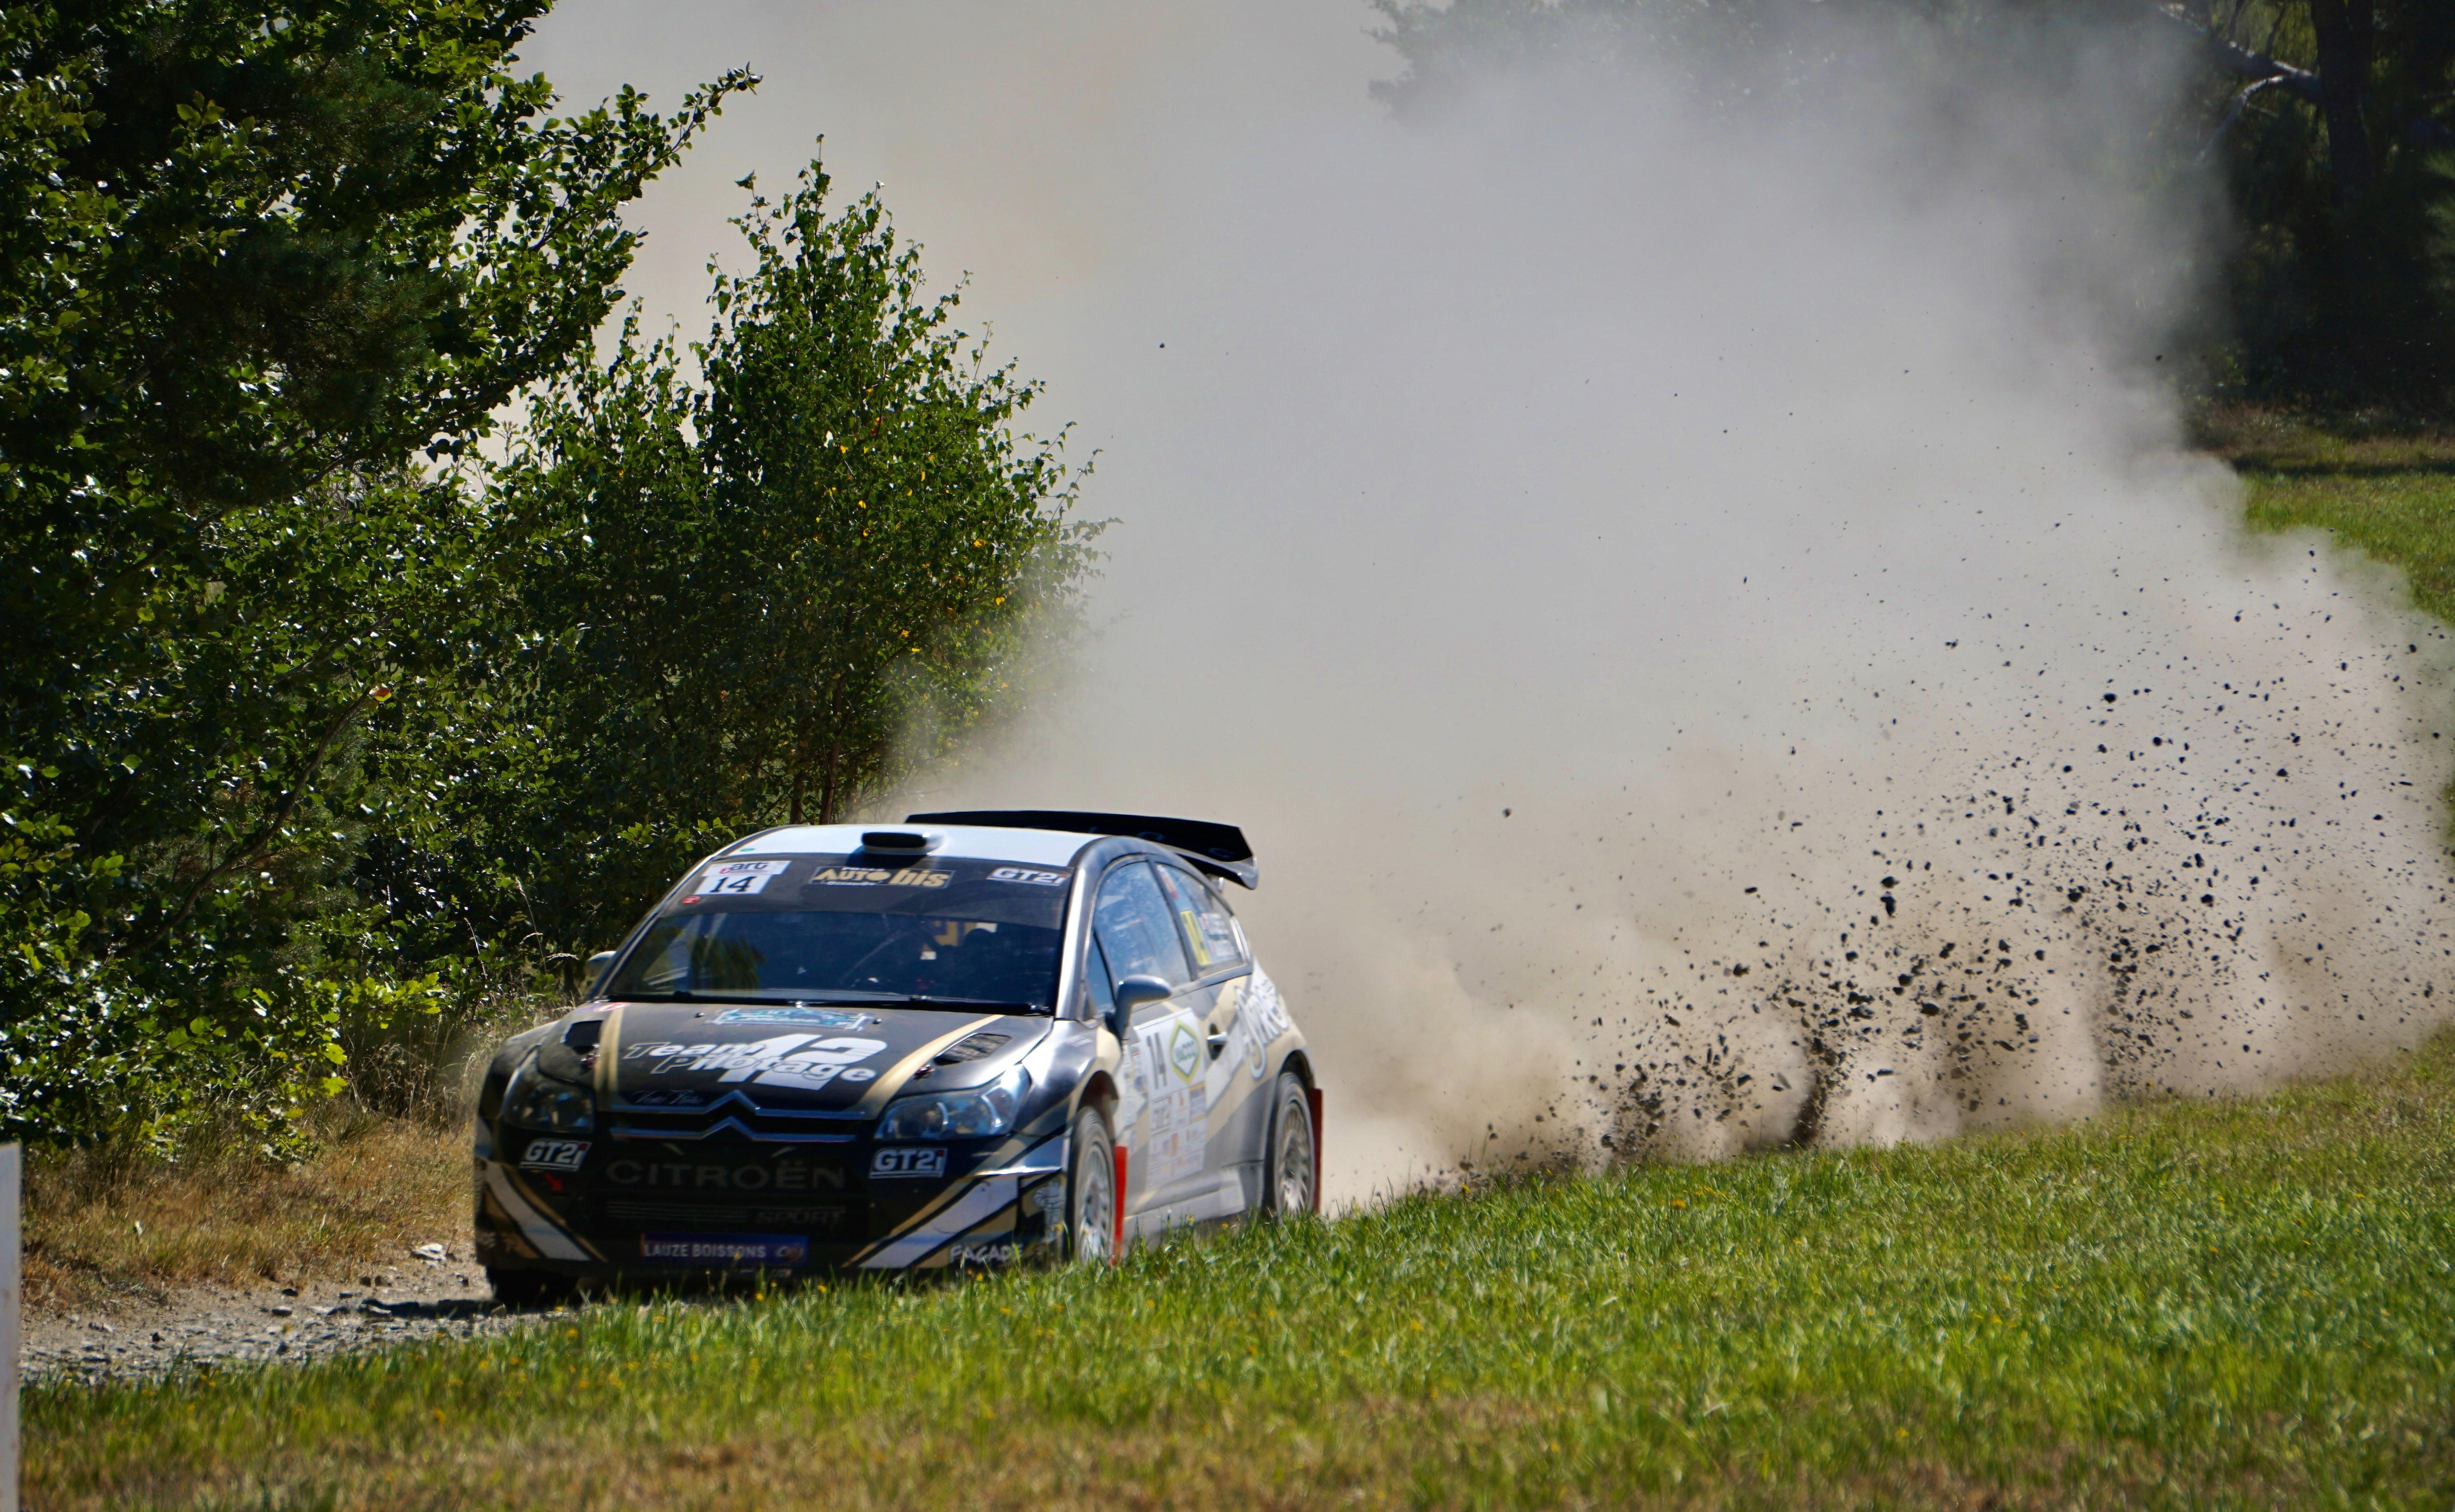Citroen: (684, 1066, 777, 1168)
